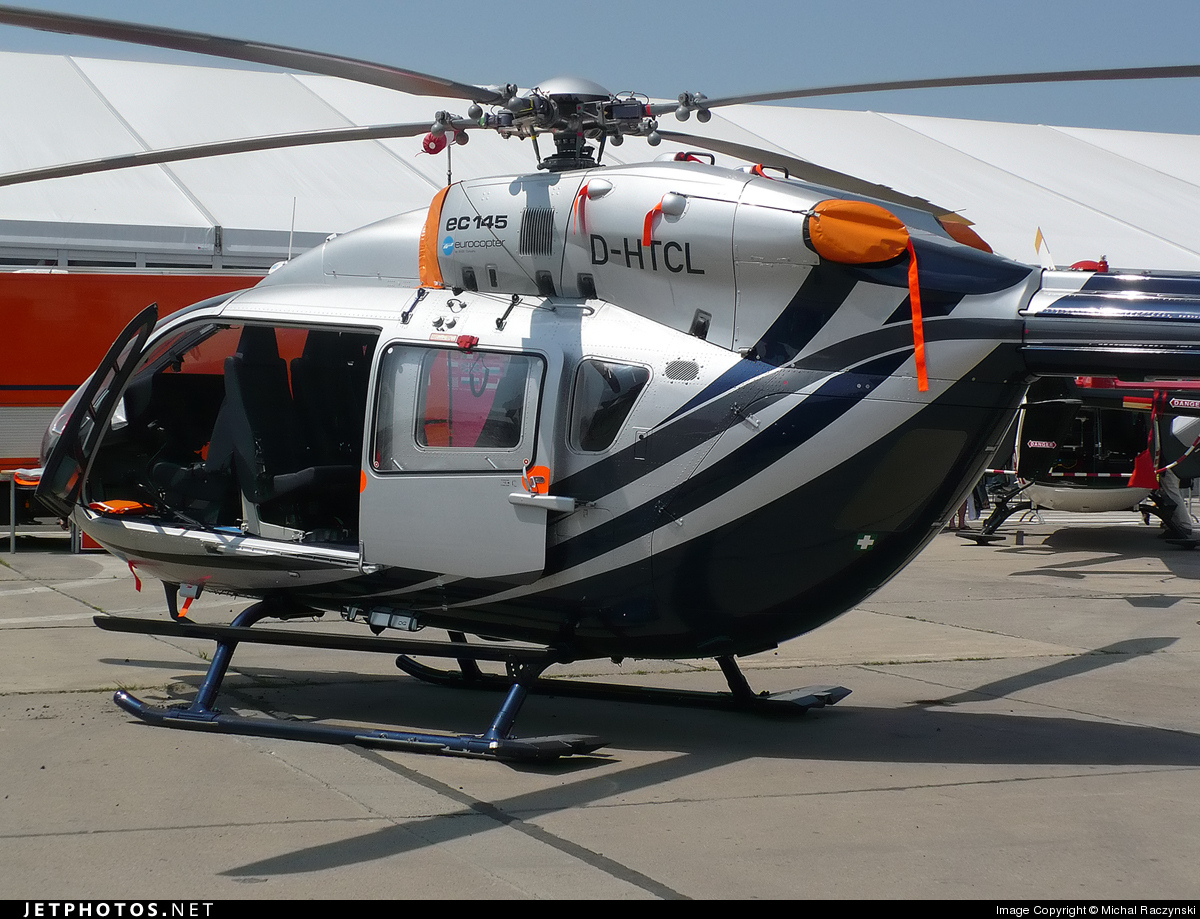number: (583, 228, 711, 287)
